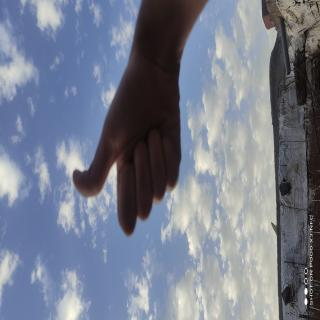ALIF: (34, 146, 120, 320)
